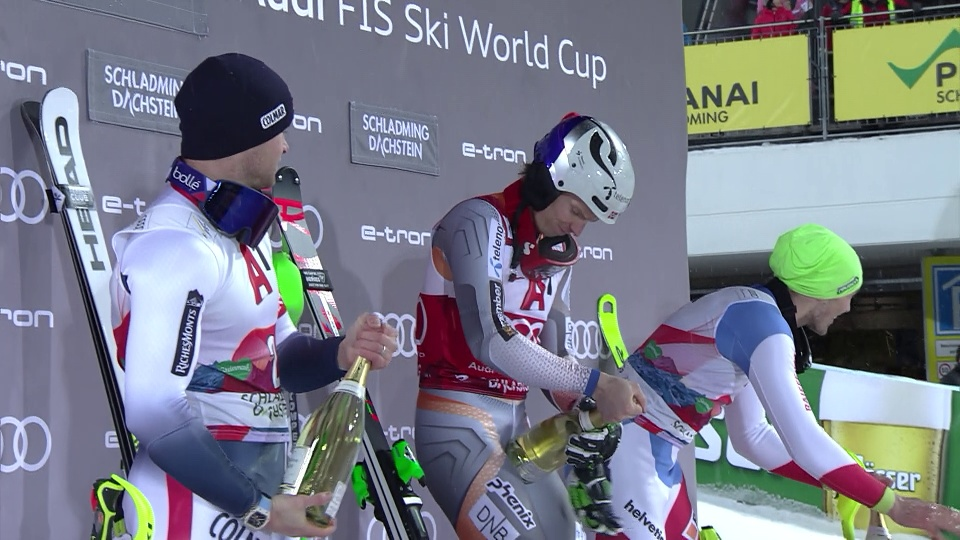a1: (241, 243, 278, 309), (518, 280, 558, 315)
audi: (355, 312, 429, 364), (1, 413, 56, 476), (1, 161, 54, 226), (555, 317, 604, 367)
etron: (360, 224, 447, 249), (1, 48, 54, 88), (461, 140, 535, 167), (1, 302, 57, 329)
schladming: (353, 109, 442, 171), (102, 66, 191, 128)
